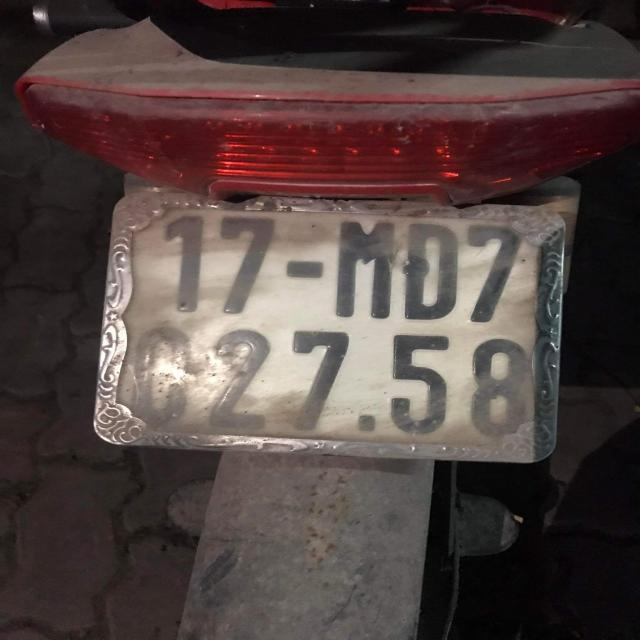1: (158, 213, 204, 314)
2: (208, 326, 274, 426)
5: (386, 331, 454, 434)
7: (286, 327, 351, 430), (213, 215, 276, 318), (461, 222, 522, 325)
8: (466, 336, 529, 436)
D: (402, 219, 461, 321)
M: (329, 214, 393, 320)
